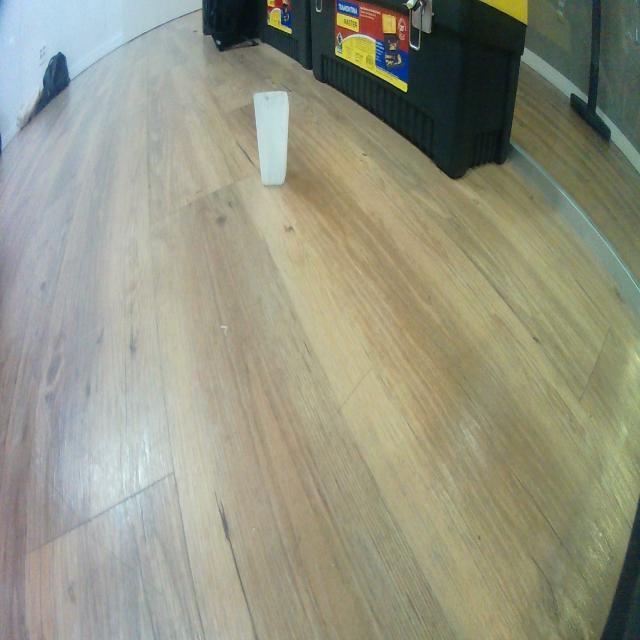erva_daninha: (253, 90, 289, 186)
